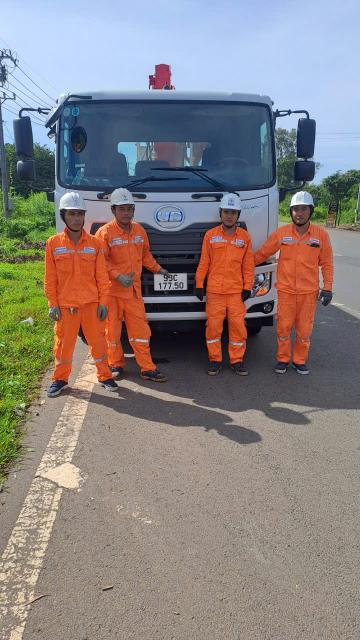gloves: (185, 275, 212, 302), (114, 269, 139, 295), (42, 302, 73, 321), (232, 283, 262, 302), (313, 284, 333, 312), (152, 261, 178, 282), (92, 301, 115, 322)
helmet: (206, 186, 254, 221), (48, 188, 89, 218), (279, 189, 327, 214), (100, 186, 145, 211)
shoes: (132, 363, 178, 392), (36, 374, 74, 400), (198, 352, 229, 381), (230, 358, 256, 384), (291, 355, 320, 378), (92, 378, 121, 395), (106, 362, 129, 383), (271, 353, 290, 377)
